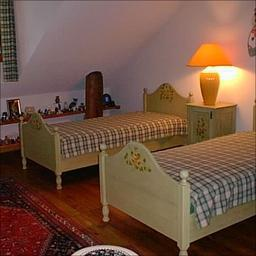Cama: (98, 128, 252, 230), (19, 88, 188, 165)
